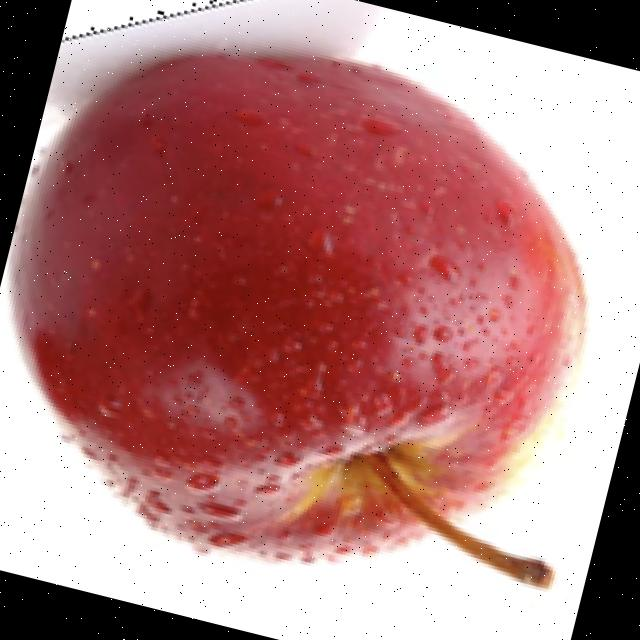apple: (3, 0, 592, 595)
